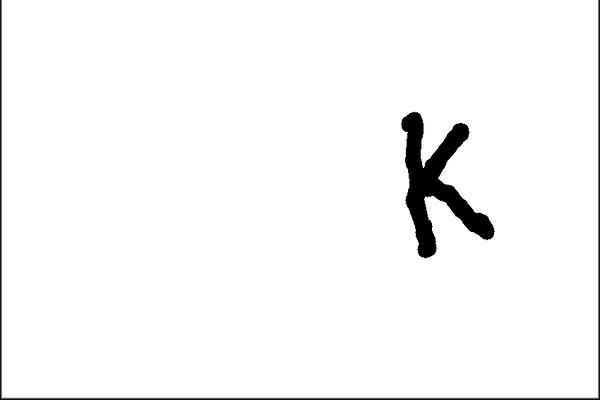K: (390, 104, 503, 260)
